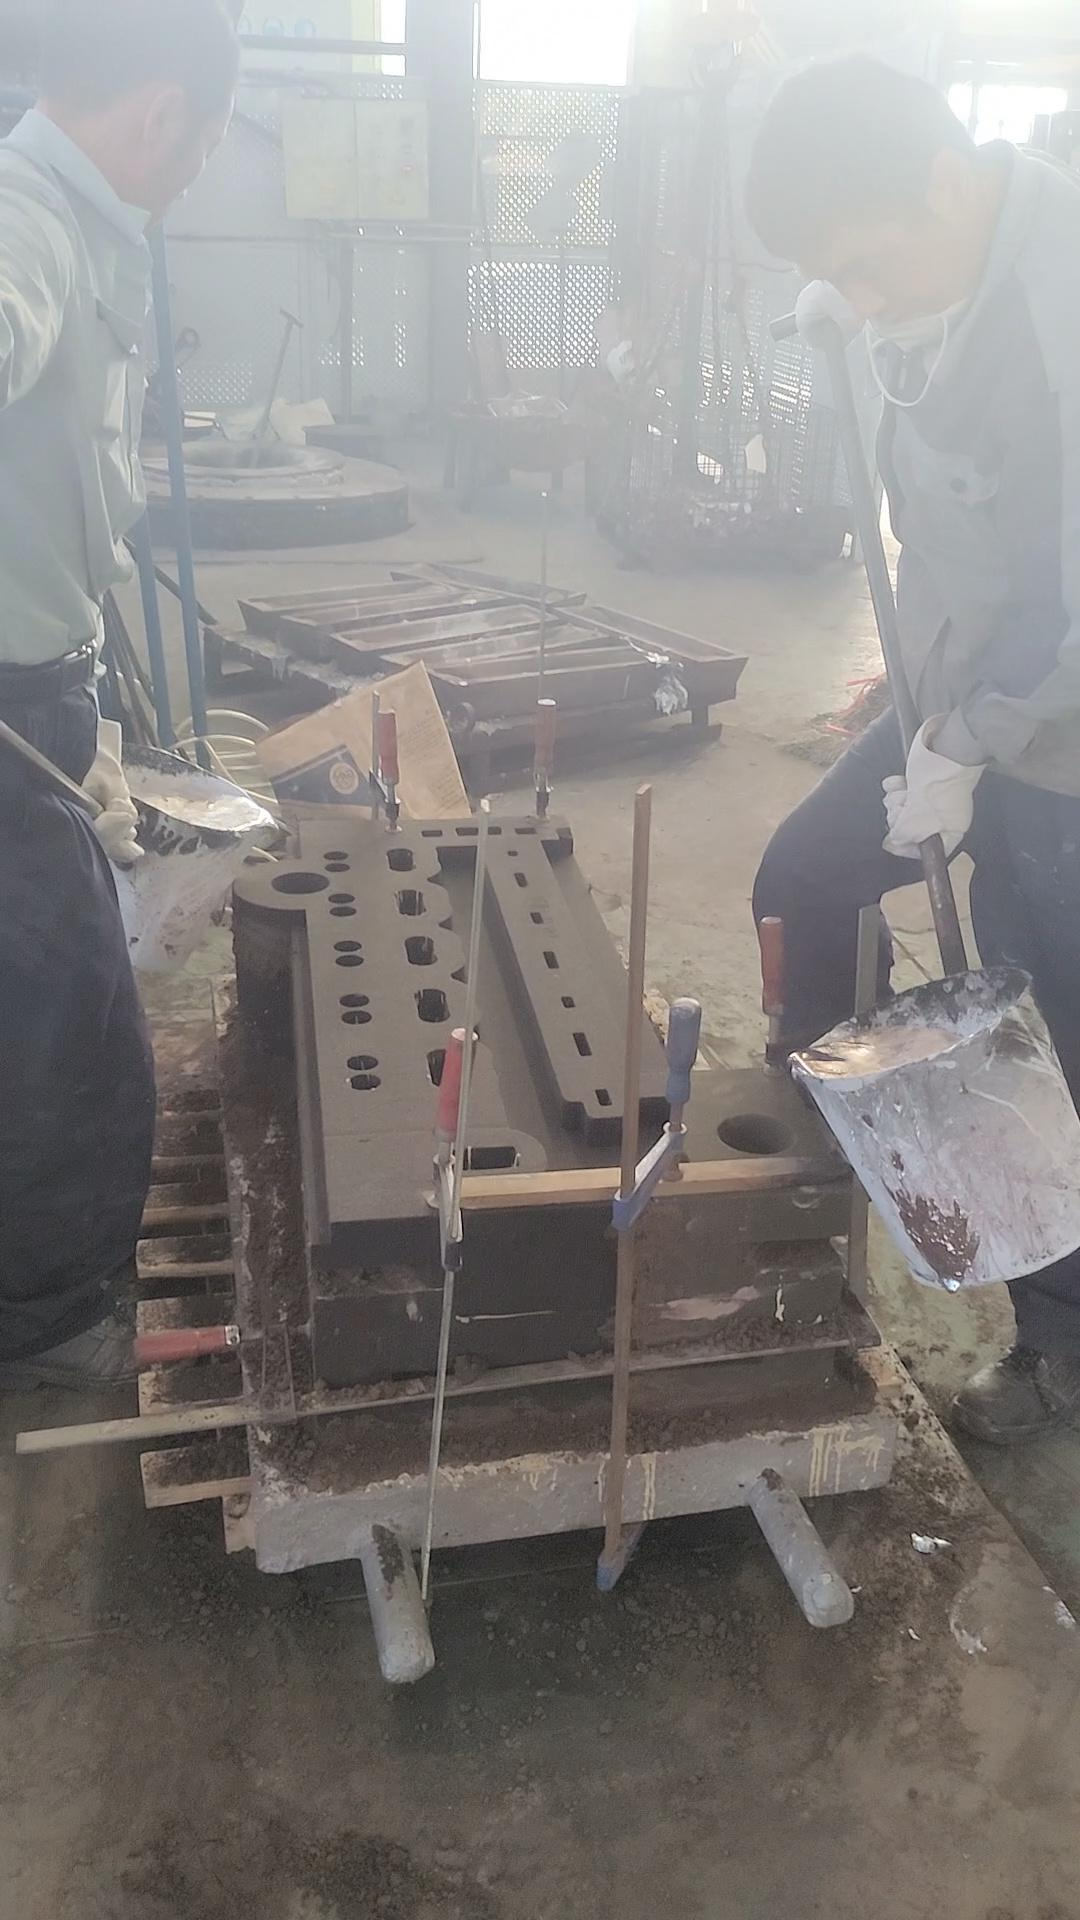pouring hole: (716, 1113, 796, 1156), (270, 872, 328, 894)
